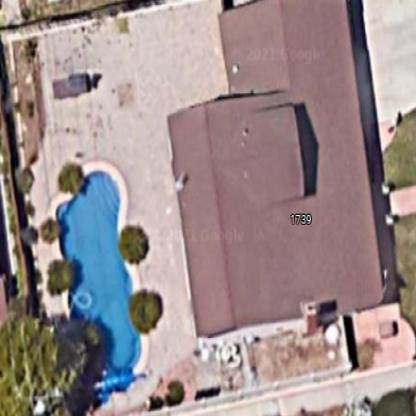pool: (40, 152, 157, 410)
